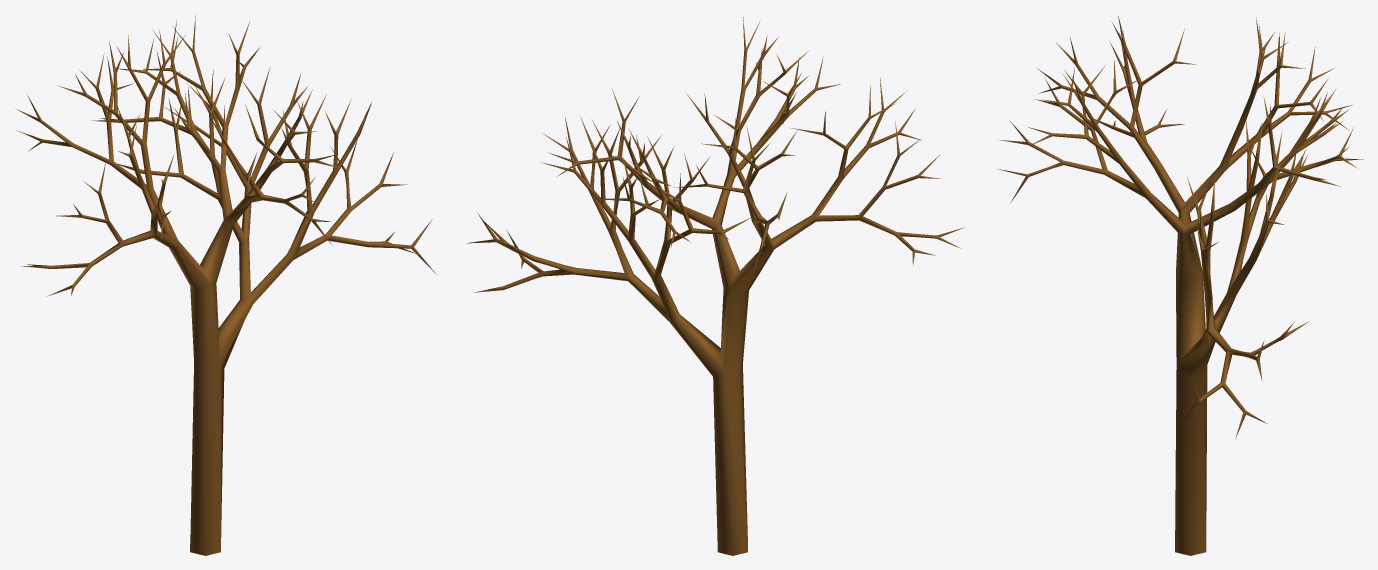
The model's file is tree-small.fbx.
3 views of the same model, side by side, from view 1: azimuth 30°, elevation 25°; view 2: azimuth 150°, elevation 25°; view 3: azimuth 270°, elevation 25° (orthographic). The views are drawn at different scales.
Visible parts, largest first — view 1: Tree3DMesh; view 2: Tree3DMesh; view 3: Tree3DMesh.
Boxes of the visible parts, x1,y1,x2,y2 form: Tree3DMesh: [16, 15, 436, 555]; Tree3DMesh: [467, 17, 965, 555]; Tree3DMesh: [997, 16, 1363, 555].
Bounding box in the file's own units: 5134 × 5587 × 3718.
